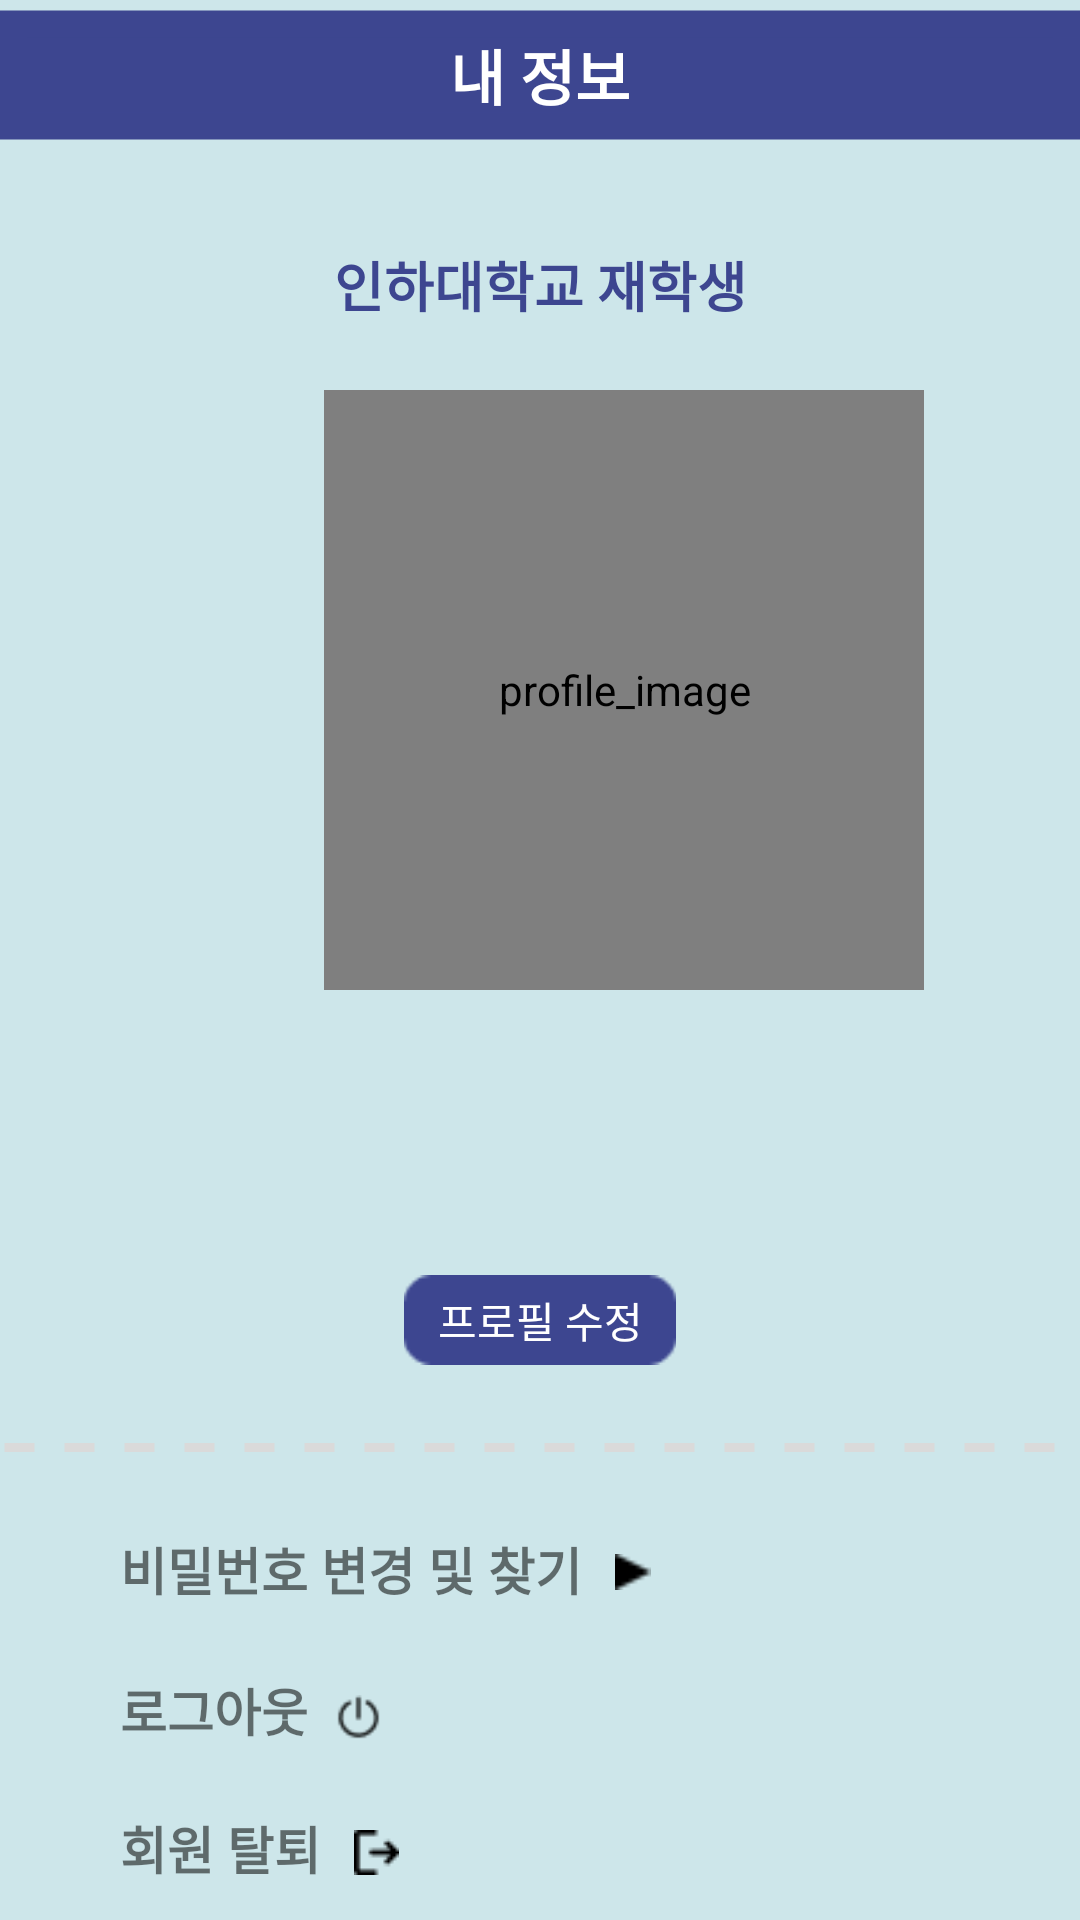

Screen size 1080w x 1920h. Icon name, then its center in pixels as (x=x, y=y):
out: (x=376, y=1852)
play: (x=633, y=1572)
